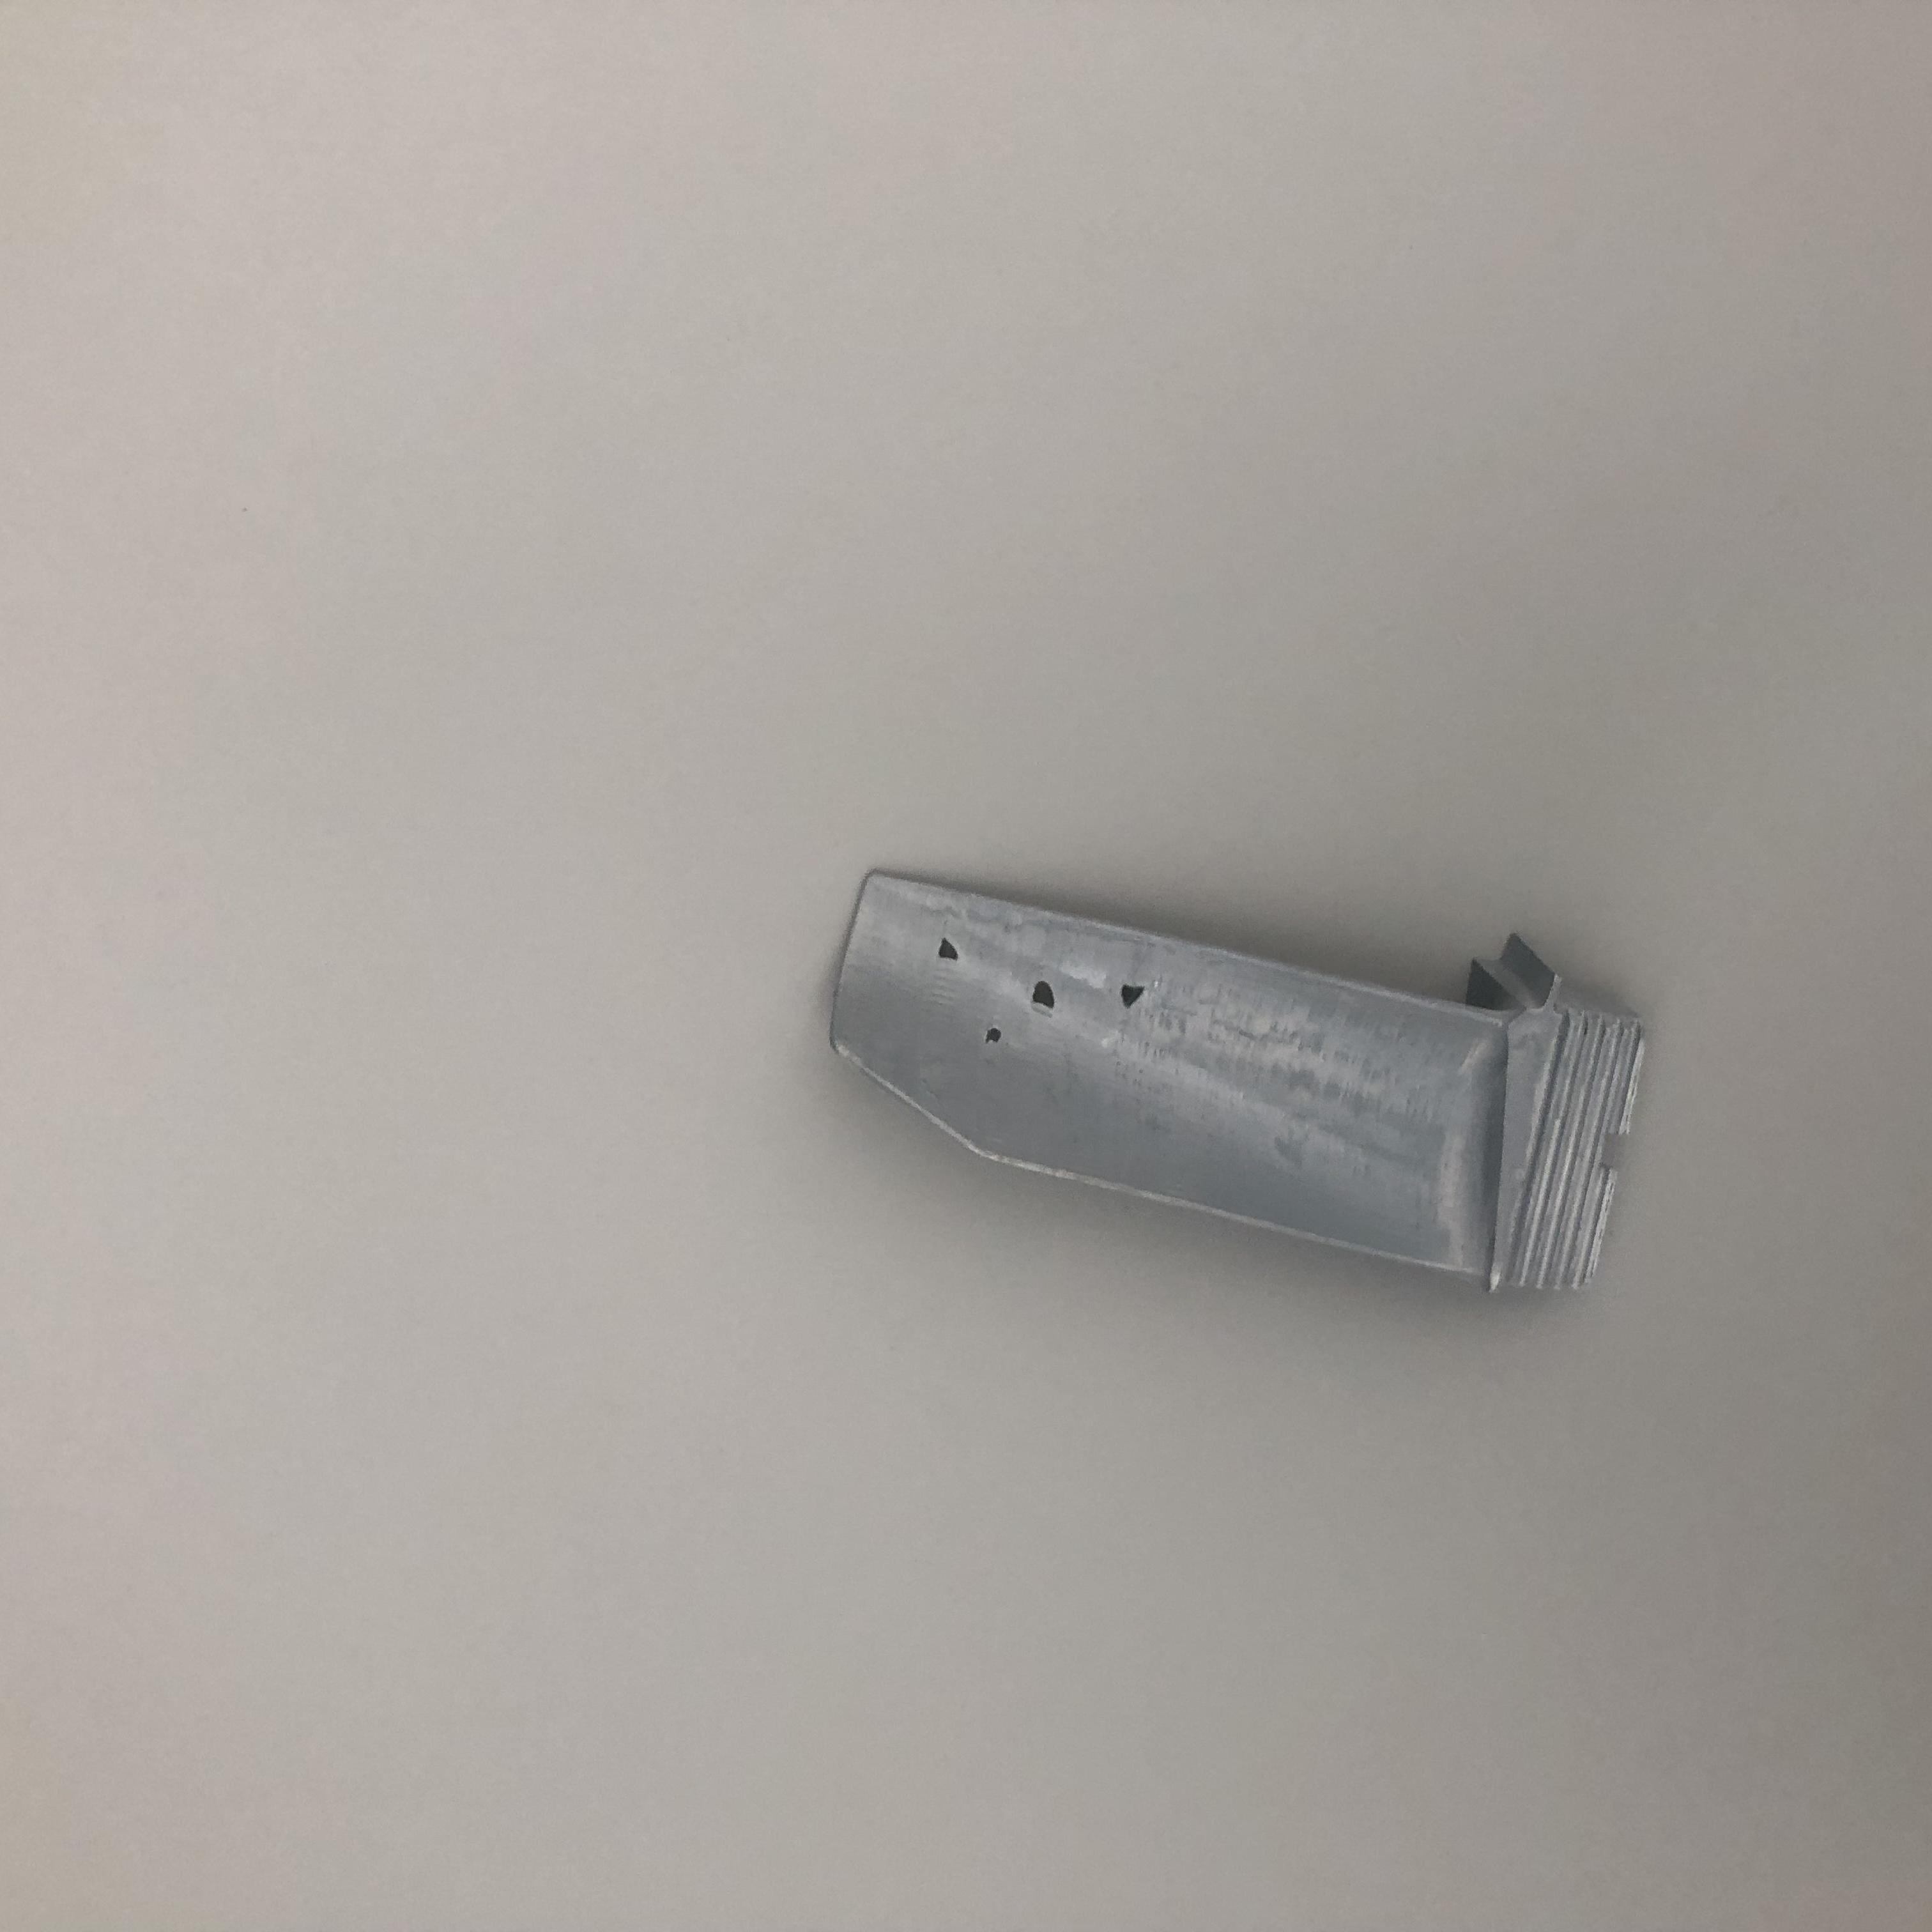breakdown: (932, 929, 1150, 1065)
